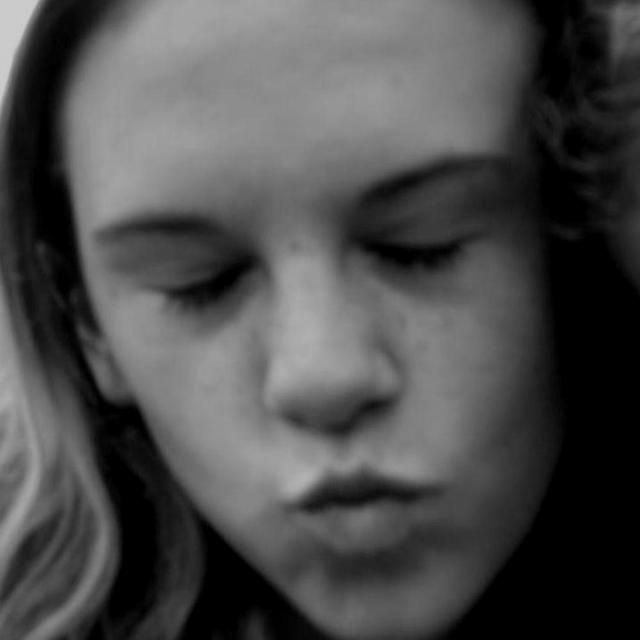real: (52, 30, 580, 640), (114, 169, 520, 344)
